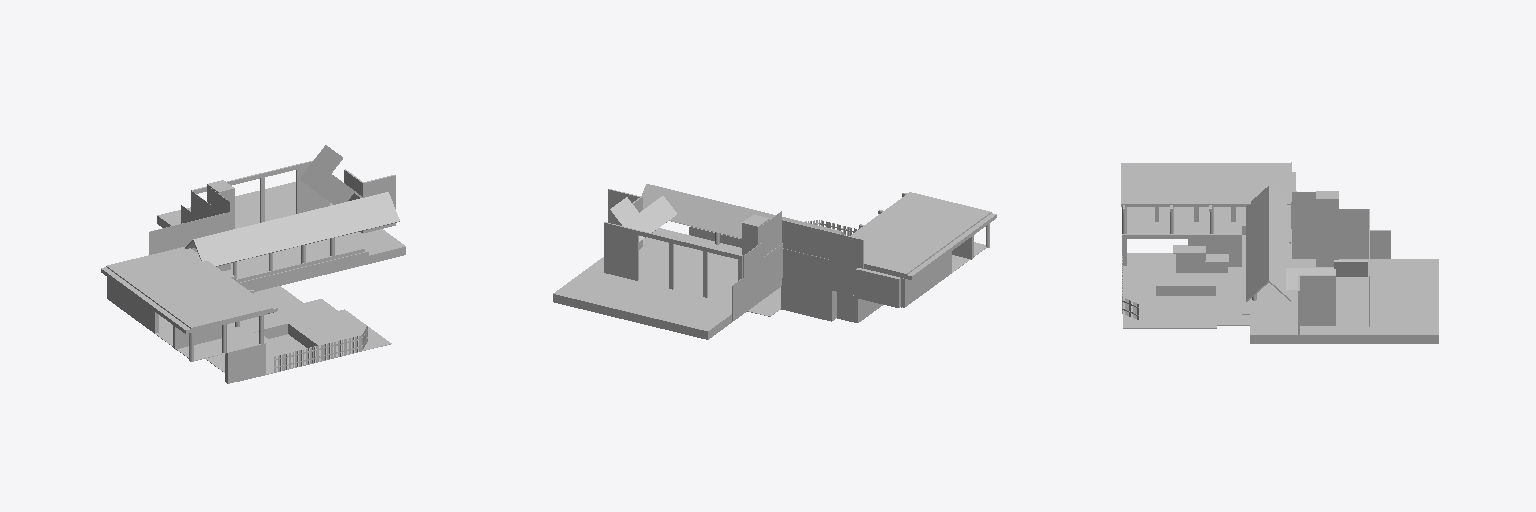
The model's file is cornerMarket.model.obj.
3 renders of one model, left to right at view 1: azimuth 30°, elevation 25°; view 2: azimuth 150°, elevation 25°; view 3: azimuth 270°, elevation 25°, orthographic.
Visible parts, largest first — view 1: block_default_28, block_default_33, block_default_11, block_default_26, block_default_23, block_default_41, block_default_68, block_default_16, block_default_6, block_default_8, block_default_21, block_default_29 (+15 smaller); view 2: block_default_16, block_default_28, block_default_20, block_default_21, block_default_33, block_default_23, block_default_62, block_default_61, block_default_53, block_default_17, block_default_42, block_default_46 (+10 smaller); view 3: block_default_62, block_default_28, block_default_33, block_default_16, block_default_8, block_default_21, block_default_20, block_default_26, block_default_63, block_default_15, block_default_6, block_default_0 (+19 smaller).
Part boxes in pixels (x1,y1,x2,y2): block_default_28: (153, 281, 272, 328); block_default_33: (115, 253, 234, 300); block_default_11: (193, 228, 265, 383); block_default_26: (240, 216, 301, 357); block_default_23: (149, 212, 230, 254); block_default_41: (291, 204, 350, 245); block_default_68: (340, 192, 399, 233); block_default_16: (196, 229, 405, 279); block_default_6: (269, 309, 391, 352); block_default_8: (155, 322, 333, 376); block_default_21: (235, 191, 293, 226); block_default_29: (243, 299, 337, 330); block_default_16: (601, 228, 857, 295); block_default_28: (872, 192, 991, 239); block_default_20: (655, 264, 769, 339); block_default_21: (604, 272, 702, 326); block_default_33: (849, 220, 953, 267); block_default_23: (782, 220, 863, 268); block_default_62: (553, 259, 649, 314); block_default_61: (652, 237, 741, 283); block_default_53: (604, 222, 638, 280); block_default_17: (781, 278, 836, 321); block_default_42: (684, 197, 743, 236); block_default_46: (860, 269, 900, 307); block_default_62: (1345, 310, 1438, 343); block_default_28: (1121, 164, 1196, 204); block_default_33: (1197, 164, 1272, 204); block_default_16: (1242, 274, 1344, 343); block_default_8: (1123, 207, 1215, 300); block_default_21: (1345, 285, 1438, 309); block_default_20: (1339, 231, 1438, 284); block_default_26: (1156, 209, 1269, 285); block_default_63: (1300, 275, 1335, 325); block_default_15: (1316, 191, 1338, 266); block_default_6: (1123, 296, 1216, 328); block_default_0: (1188, 224, 1245, 266).
Bounding box in the file's own units: 73.4 × 26 × 67.45.